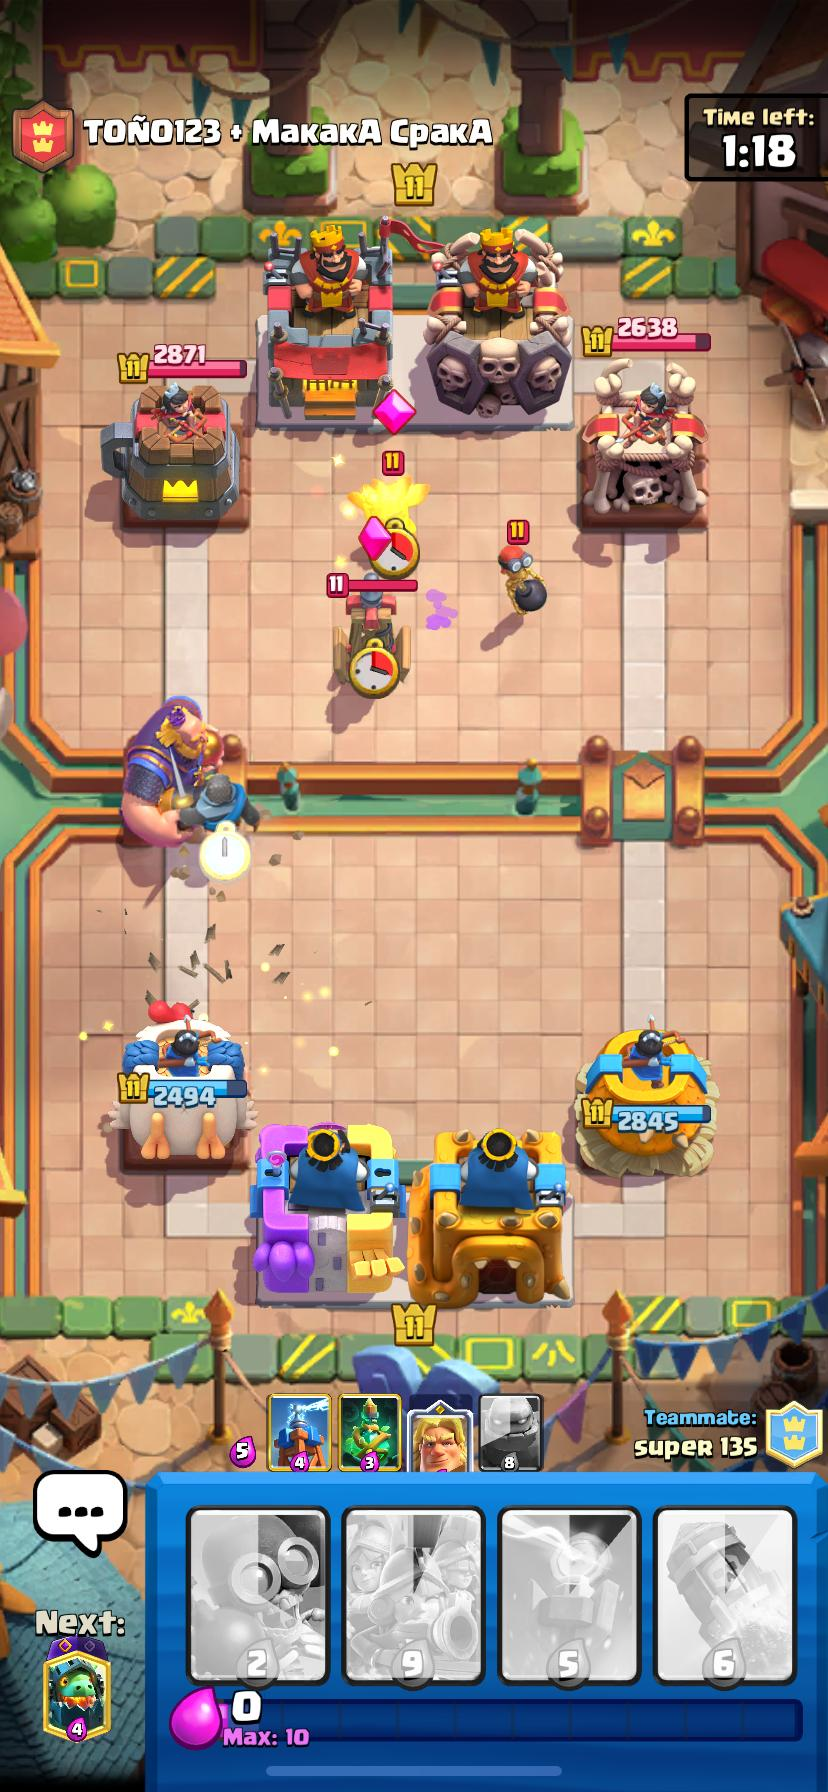EBomber: (497, 541, 546, 613)
EDartGoblin: (342, 474, 429, 533)
EKingTower: (424, 229, 571, 424), (258, 219, 393, 425)
ETesla: (345, 581, 409, 699)
EnemyPrincessTower: (580, 363, 706, 520), (102, 385, 238, 523)
OEVRoyalG: (121, 696, 221, 846)
OKnight: (178, 775, 258, 830)
OwnKingTower: (408, 1128, 571, 1306), (252, 1123, 401, 1303)
OwnPrincessTower: (108, 1002, 256, 1159), (578, 1017, 716, 1175)
